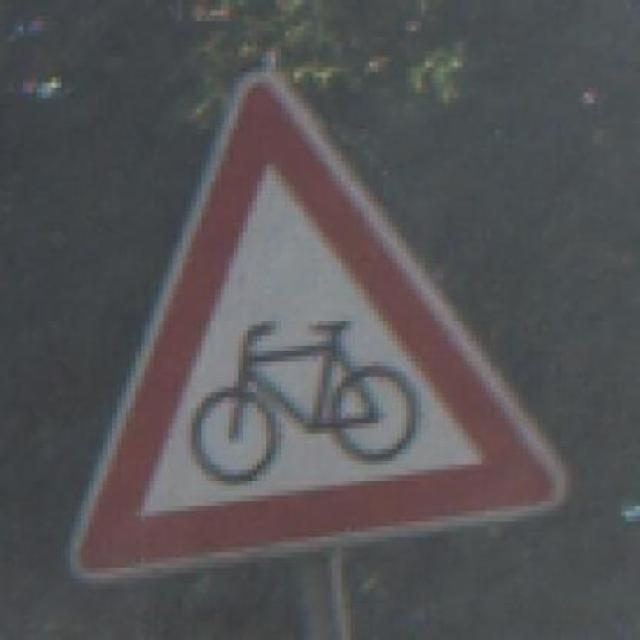CYCLE ROUTE AHEAD WARNING: (52, 41, 574, 588)
